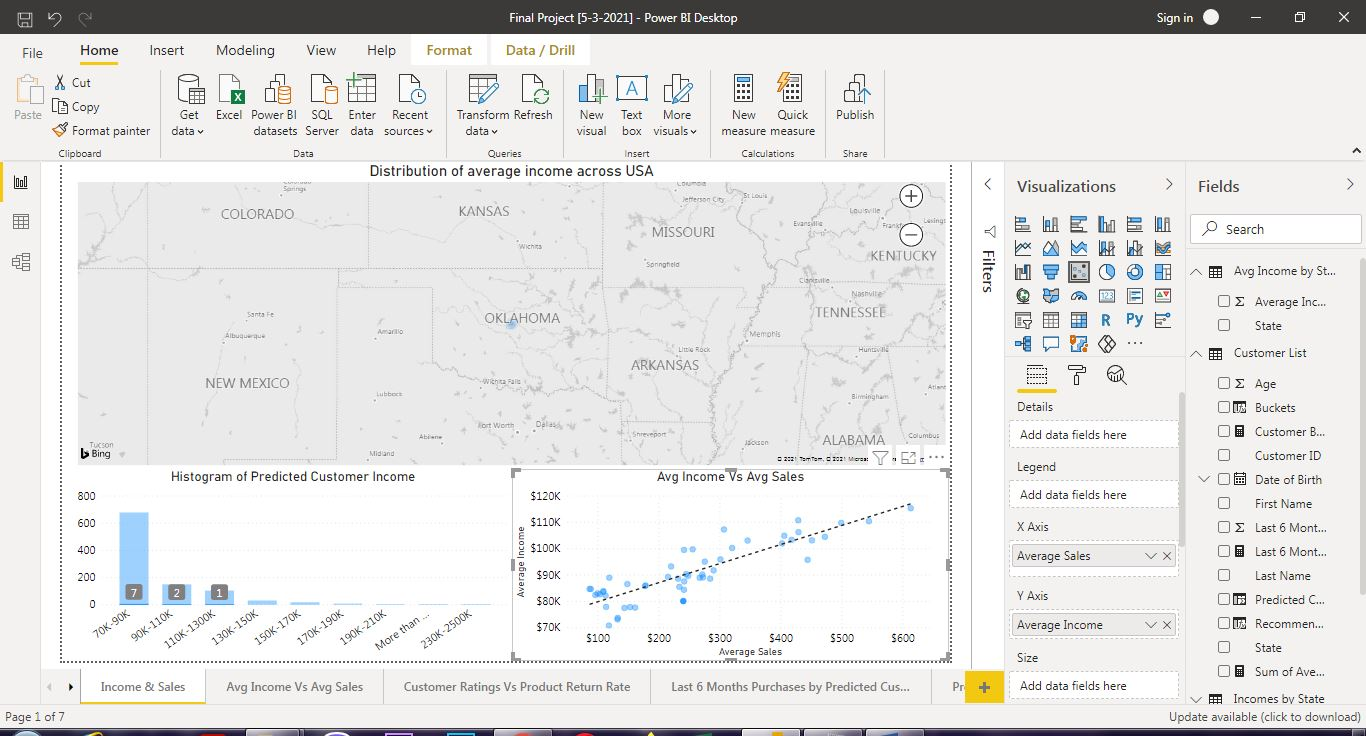

This screenshot's page, from the dashboard's own definition file:
{"tool":"powerbi","page":{"name":"Income & Sales","canvas":[1280,720],"ordinal":0},"visuals":[{"type":"map","title":"Distribution of average income across USA","fields":{"Size":["Sum(Regression Table.Average Income)"],"Category":["Regression Table.State"]},"box":[17.3,0,1262.5,443],"z":0},{"type":"columnChart","title":"Histogram of Predicted Customer Income","fields":{"Y":["Customer List.Customer Buckets Count"],"Category":["Customer List.Buckets"]},"box":[17.3,443,632,277],"z":1000},{"type":"scatterChart","title":"Avg Income Vs Avg Sales","fields":{"X":["Regression Table.Average Sales"],"Y":["Regression Table.Average Income"]},"box":[649.3,443,630.5,277],"z":2000}]}

Visuals, with their boxes on the page's 1280x720 design canvas (x1, y1, x2, y2). These are canvas units, not pixel positions in the 1366x736 screenshot, which may show the page scaled, cropped or inside an application window:
"Distribution of average income across USA" map: box=[17, 0, 1280, 443]
"Histogram of Predicted Customer Income" columnChart: box=[17, 443, 649, 720]
"Avg Income Vs Avg Sales" scatterChart: box=[649, 443, 1280, 720]
